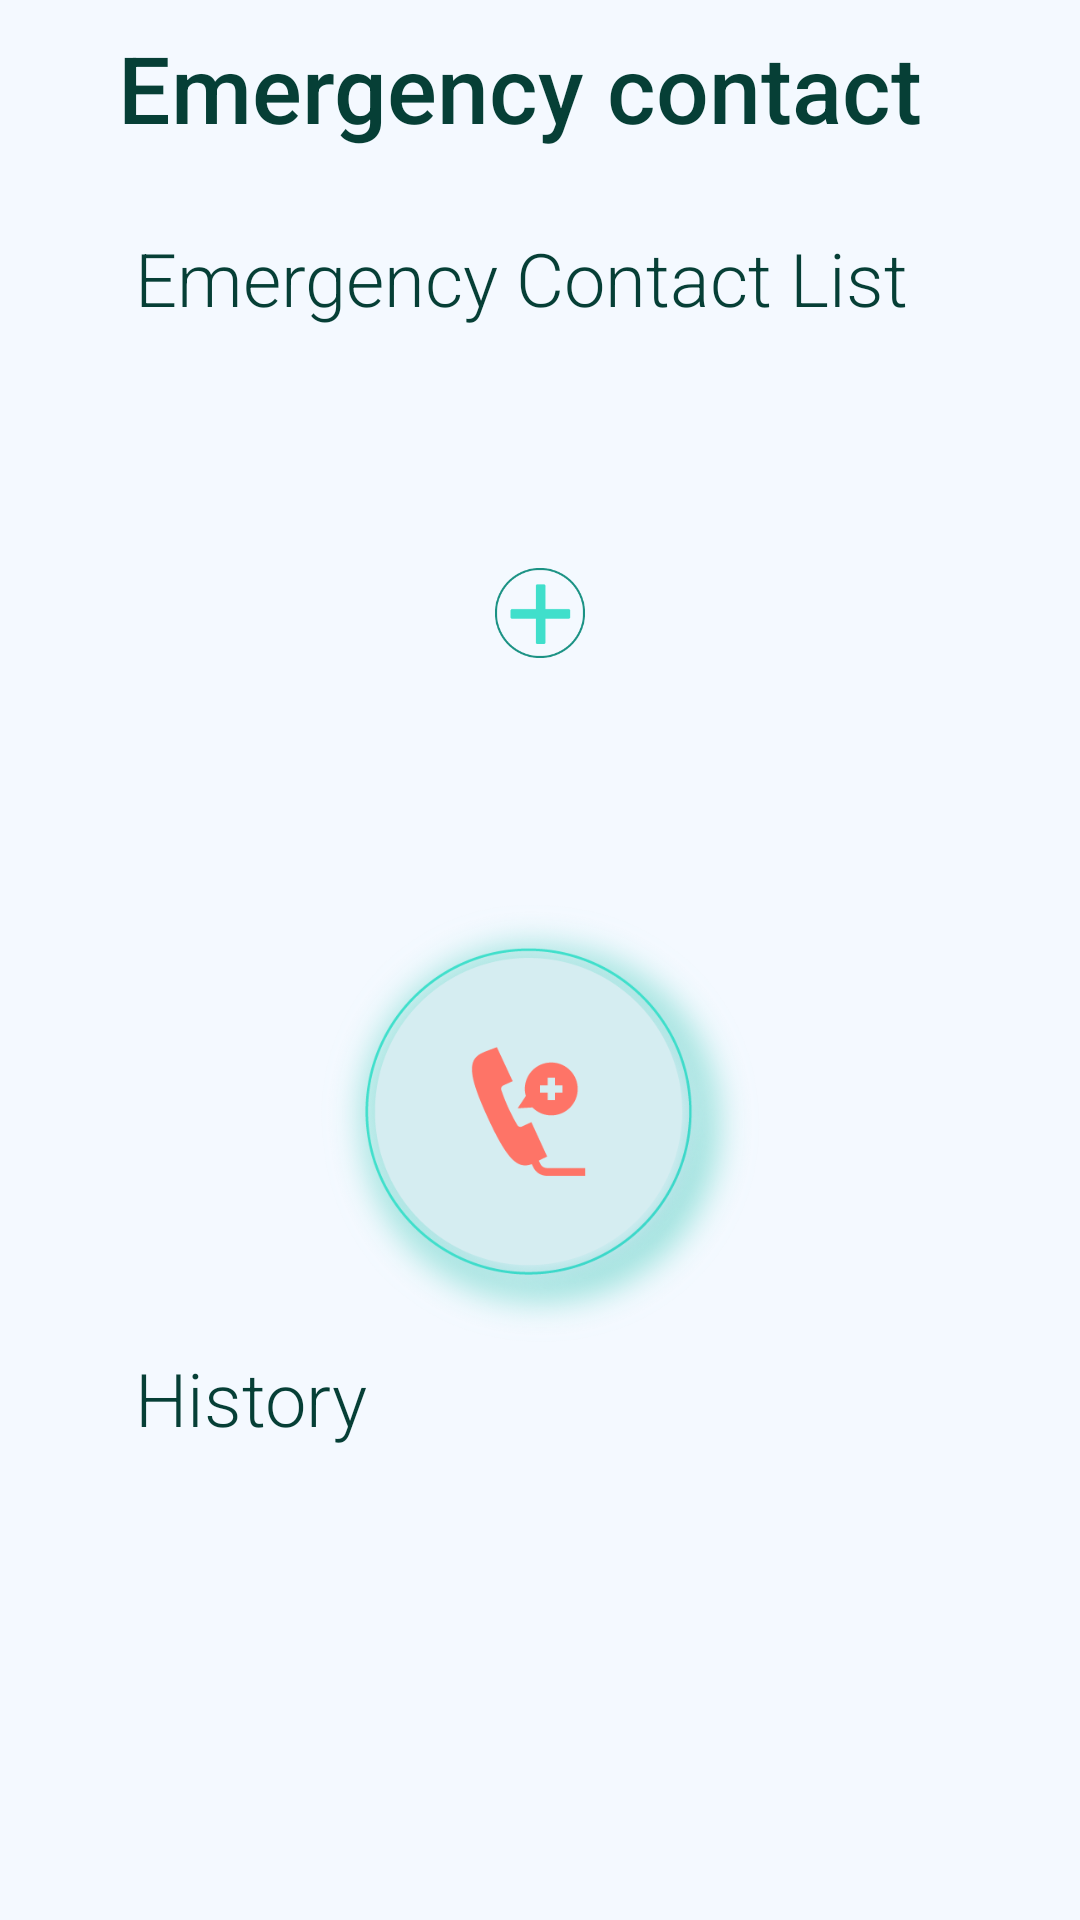

Icons on this 1080x1920 Android screen, each with the point to tap as (x=x, y=y):
add: (x=540, y=613)
